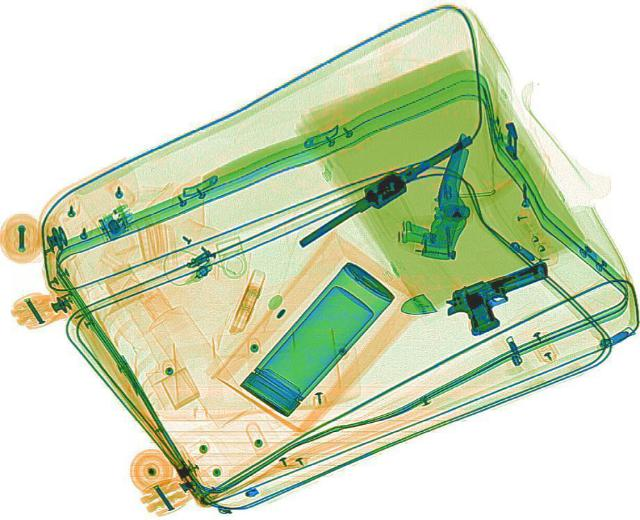Gun: (433, 258, 569, 338)
